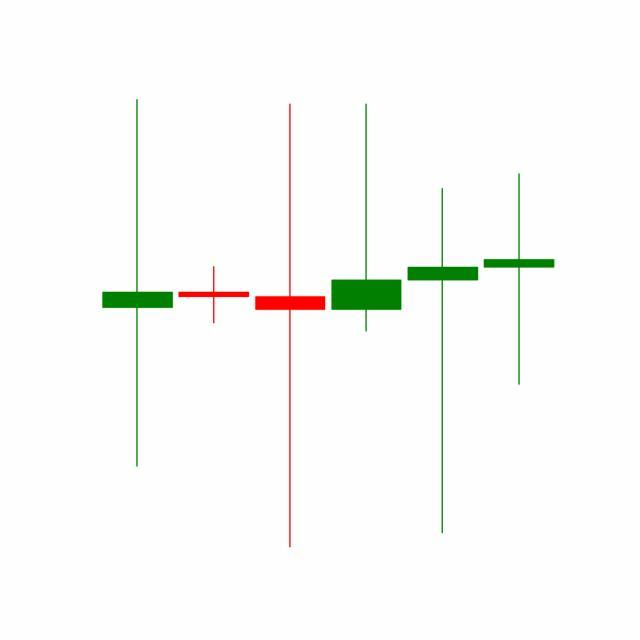Spinning Top: (404, 185, 482, 537)
